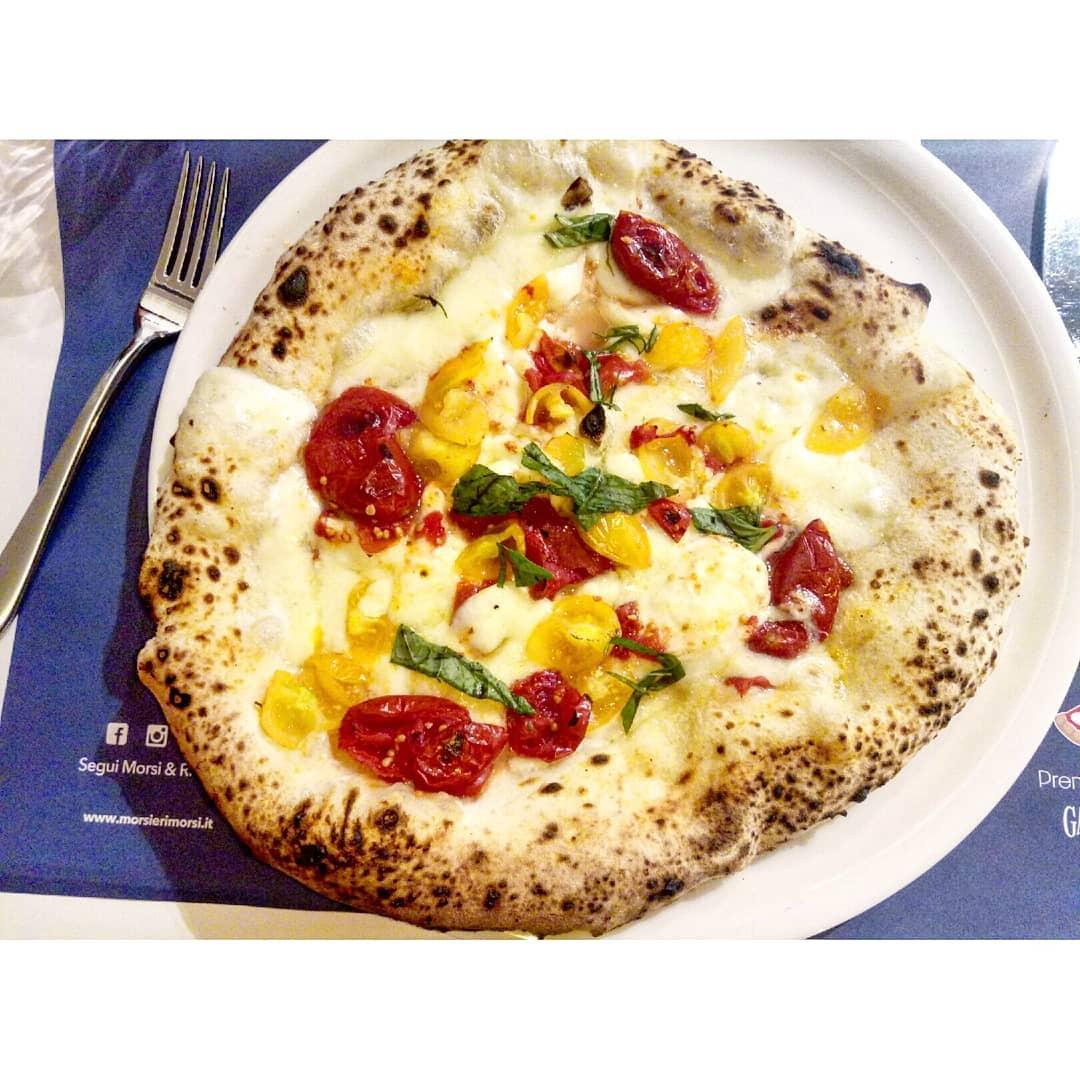Arugula: (388, 626, 524, 712), (533, 443, 669, 515), (458, 448, 539, 524), (613, 636, 677, 722), (538, 198, 609, 251), (691, 506, 756, 547)
Peppers: (261, 646, 379, 752), (428, 336, 502, 469), (533, 596, 629, 679), (651, 321, 749, 395), (338, 553, 405, 655), (821, 381, 887, 459), (711, 416, 764, 499), (643, 436, 704, 489), (591, 513, 642, 569), (508, 278, 549, 339)
Pizza: (143, 141, 1022, 930)
Tomatoes: (756, 523, 859, 672), (313, 396, 422, 529), (333, 701, 495, 789), (618, 213, 724, 321), (463, 508, 602, 585), (501, 671, 584, 757), (533, 336, 635, 399)
